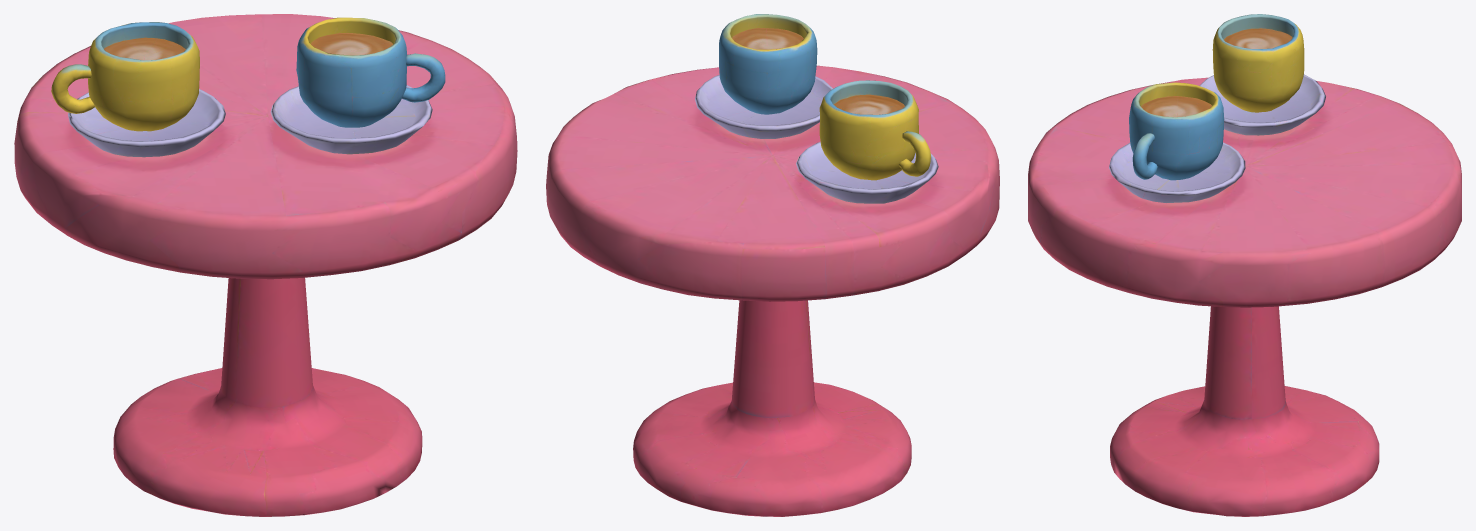
Rendered from cafe-table.glb.
3 views of the same model, side by side, from view 1: azimuth 30°, elevation 25°; view 2: azimuth 150°, elevation 25°; view 3: azimuth 270°, elevation 25° (orthographic). The views are drawn at different scales.
Visible parts, largest first — view 1: geometry_0; view 2: geometry_0; view 3: geometry_0.
Boxes of the visible parts, x1,y1,x2,y2 form: geometry_0: [14, 14, 517, 516]; geometry_0: [546, 14, 999, 516]; geometry_0: [1028, 14, 1461, 516].
Size of the model in its own units: 1 by 0.9684 by 1.
Materials: 1 (1 with a texture image).
